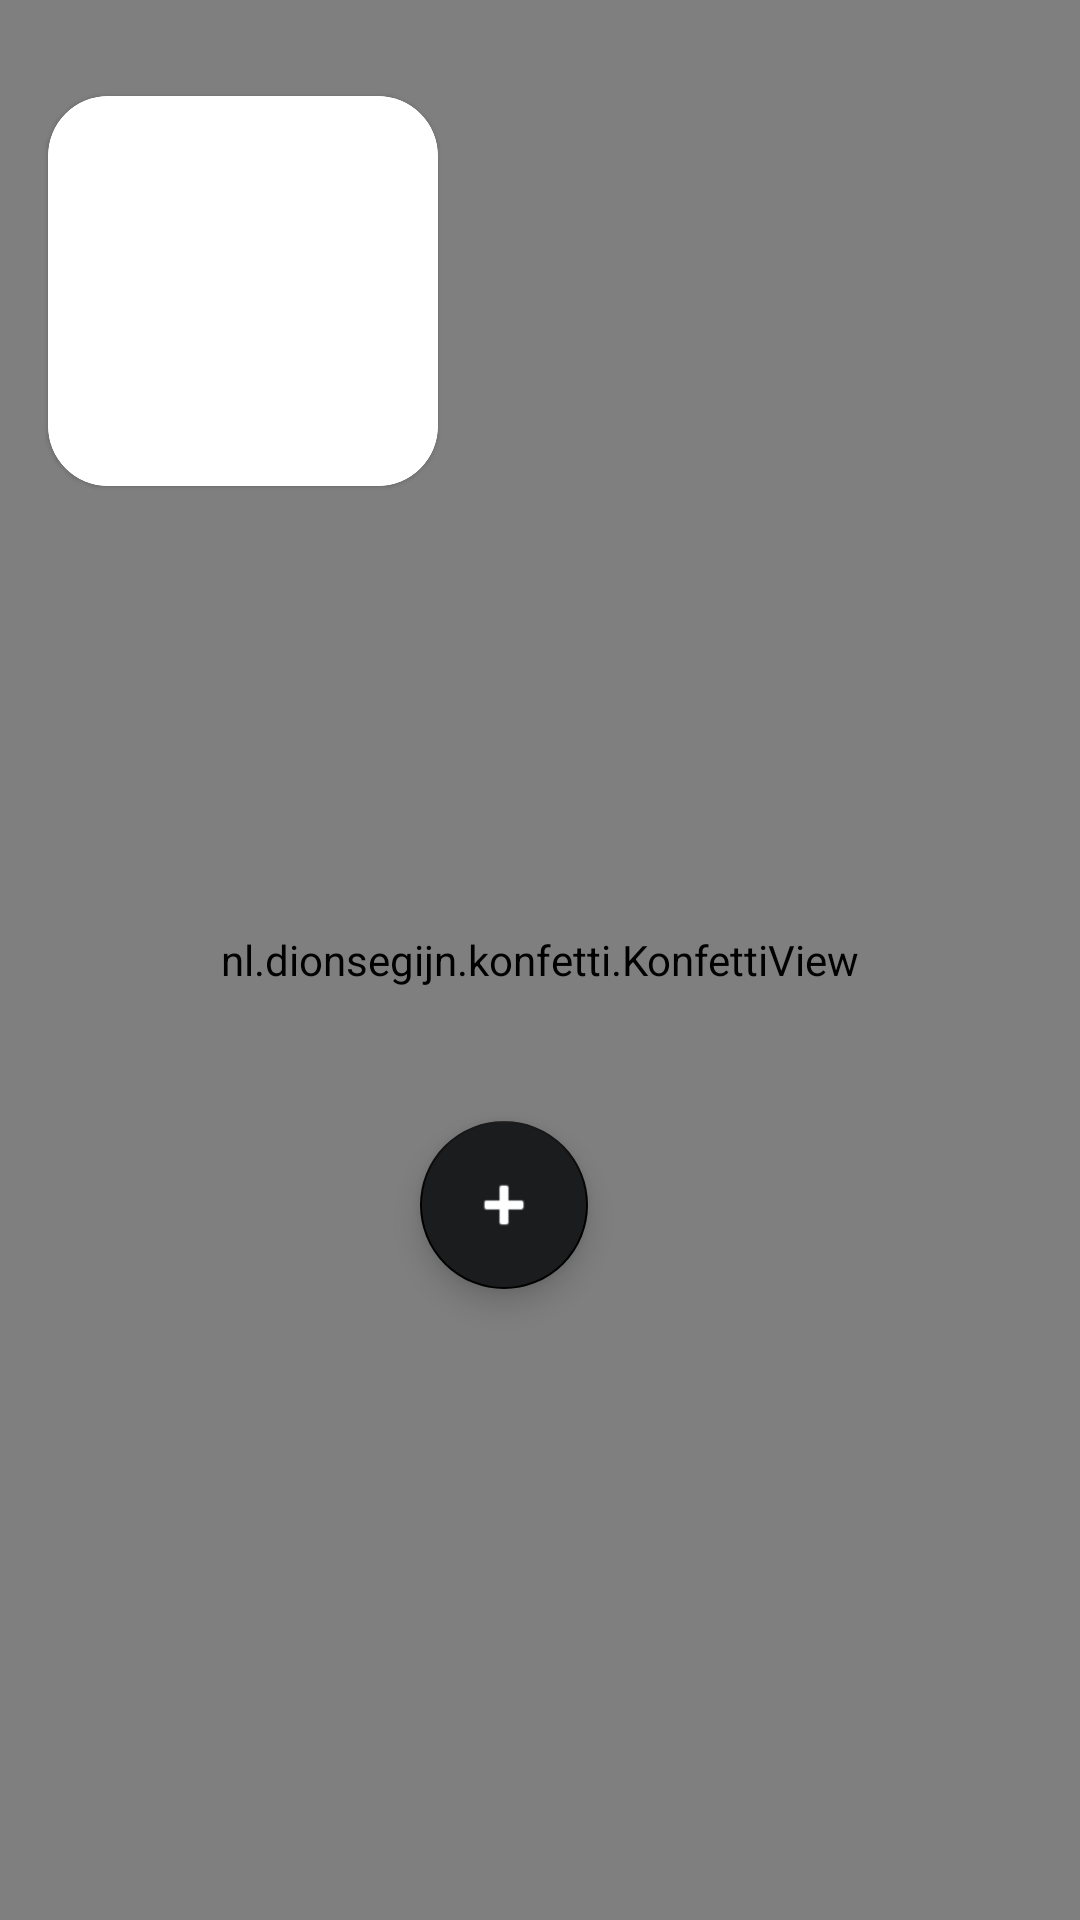

Icons on this 1080w x 1920h Android screen, each with the point to tap as (x,y):
add: (504,1205)
